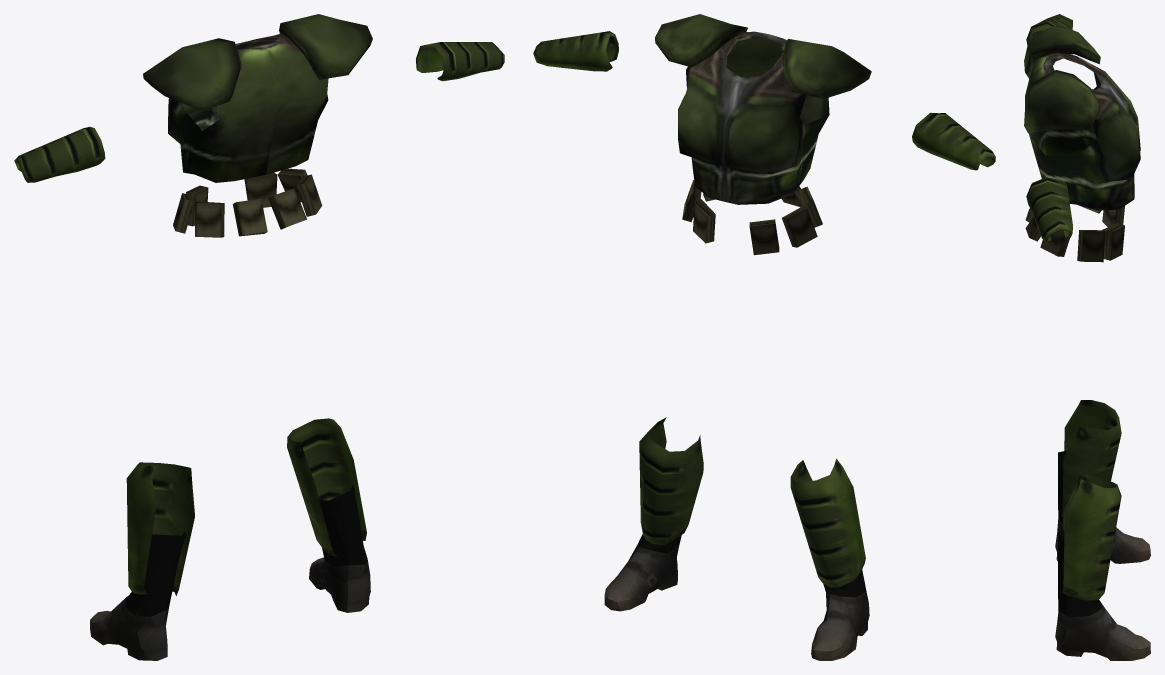
File: armor_female_combatarmor.obj
3 renders of one model, left to right at view 1: azimuth 30°, elevation 25°; view 2: azimuth 150°, elevation 25°; view 3: azimuth 270°, elevation 25°, orthographic. The views are drawn at different scales.
Visible parts, largest first — view 1: Object01, BodyArmor, (no name)33, Object02; view 2: Object01, BodyArmor, (no name)33, Object02; view 3: Object01, BodyArmor, (no name)33, Object02.
Part boxes in pixels (bbox=[...]): Object01: bbox=[90, 418, 370, 660]; BodyArmor: bbox=[168, 33, 328, 182]; (no name)33: bbox=[143, 14, 372, 237]; Object02: bbox=[14, 42, 504, 182]; Object01: bbox=[604, 417, 869, 660]; BodyArmor: bbox=[678, 31, 829, 204]; (no name)33: bbox=[655, 14, 871, 255]; Object02: bbox=[533, 31, 995, 170]; Object01: bbox=[1055, 400, 1150, 660]; BodyArmor: bbox=[1025, 53, 1140, 210]; (no name)33: bbox=[1024, 26, 1124, 262]; Object02: bbox=[1026, 14, 1072, 241].
Bounding box in the file's own units: 70.6 × 84.25 × 17.69.
Materials: 1 (1 with a texture image).
